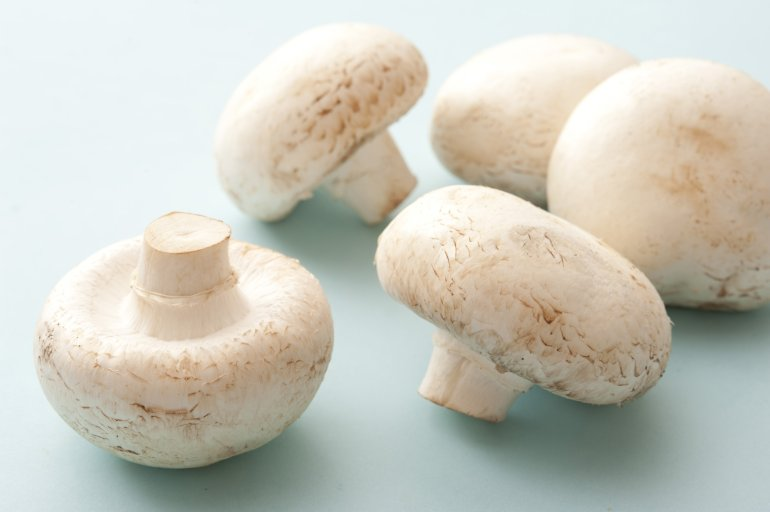Mushroom: (366, 185, 690, 447), (33, 211, 337, 470), (212, 16, 441, 254)
